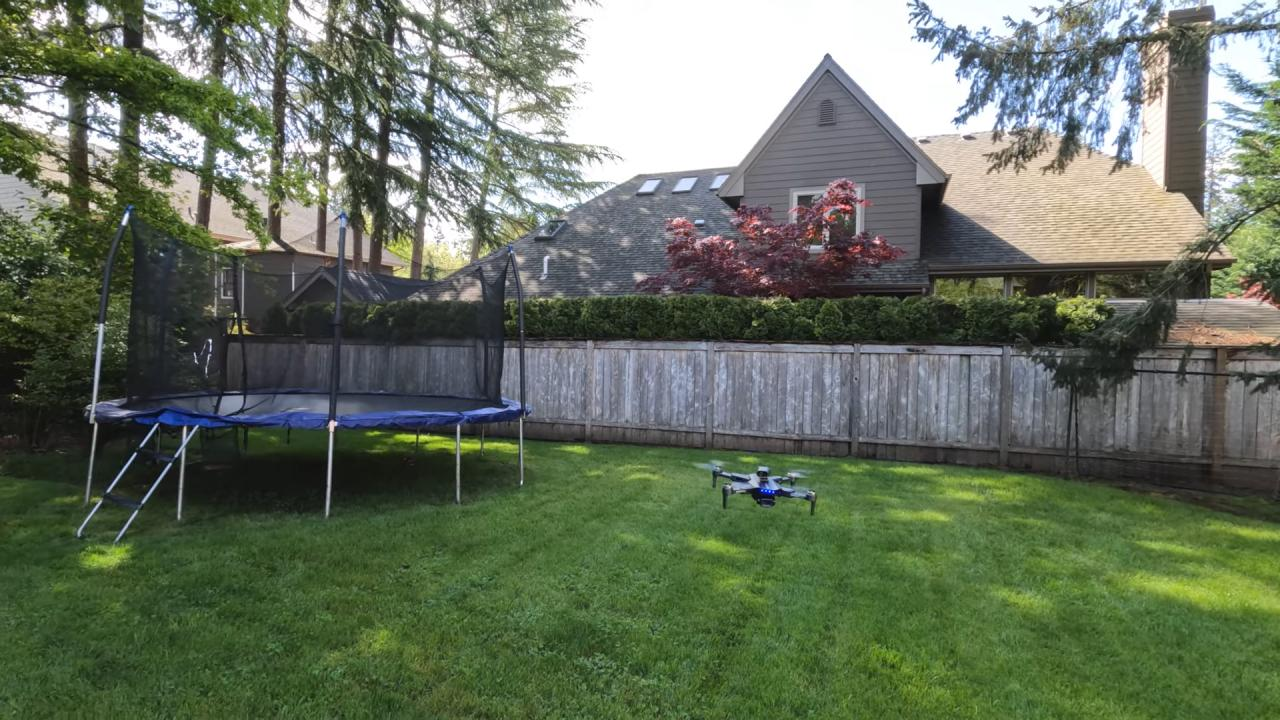Drone: (681, 447, 827, 525)
